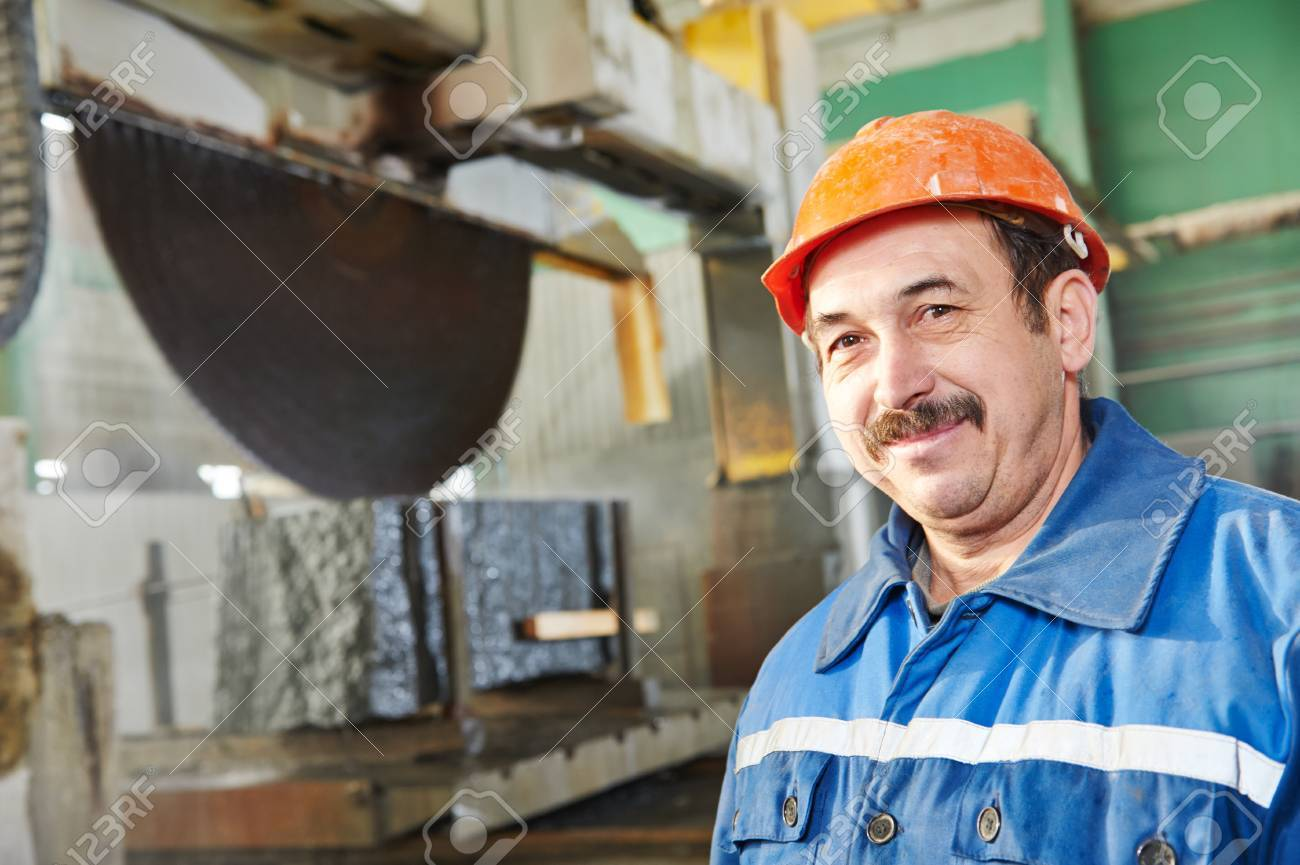Person_wearing_helmet: (777, 100, 1105, 357)
